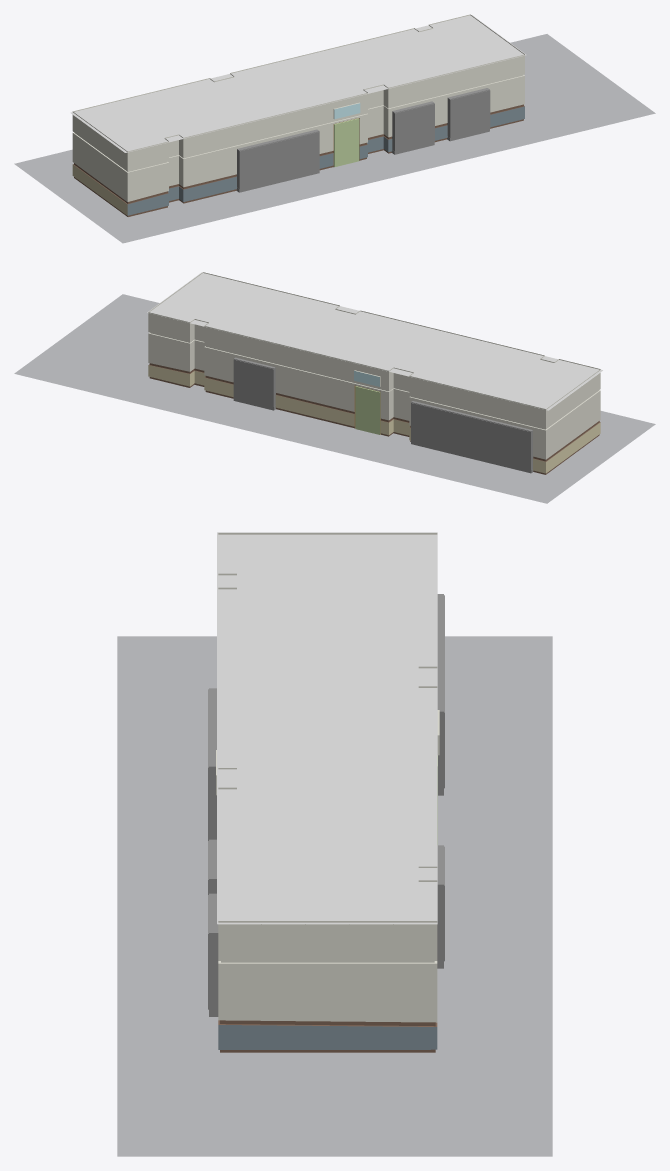
Rendered from environment_test3.fbx.
3 renders of one model, top to bottom at view 1: azimuth 30°, elevation 25°; view 2: azimuth 150°, elevation 25°; view 3: azimuth 270°, elevation 25°, orthographic. The views are drawn at different scales.
Parts seen in each view (by area): view 1: polySurface101; view 2: polySurface101; view 3: polySurface101.
Part boxes in pixels (x1,y1,x2,y2): polySurface101: (14,14,655,243); polySurface101: (14,272,655,503); polySurface101: (117,532,552,1156).
Bounding box in the file's own units: 31.51 × 3.77 × 11.15.
